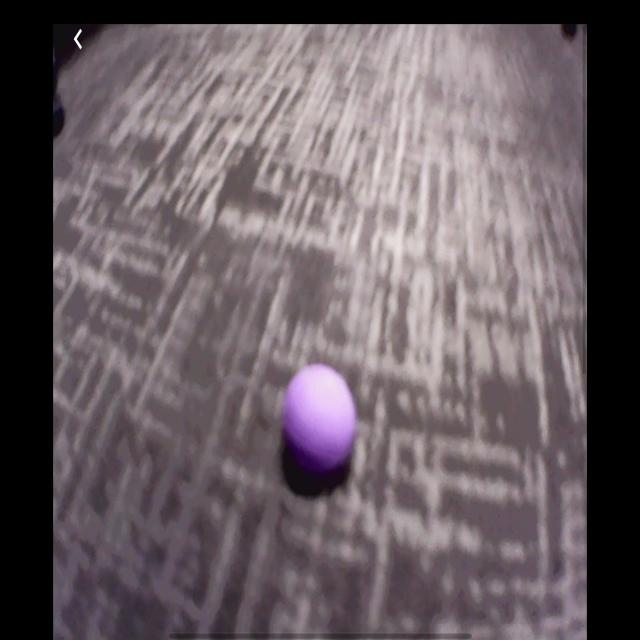ball: (281, 362, 358, 497)
